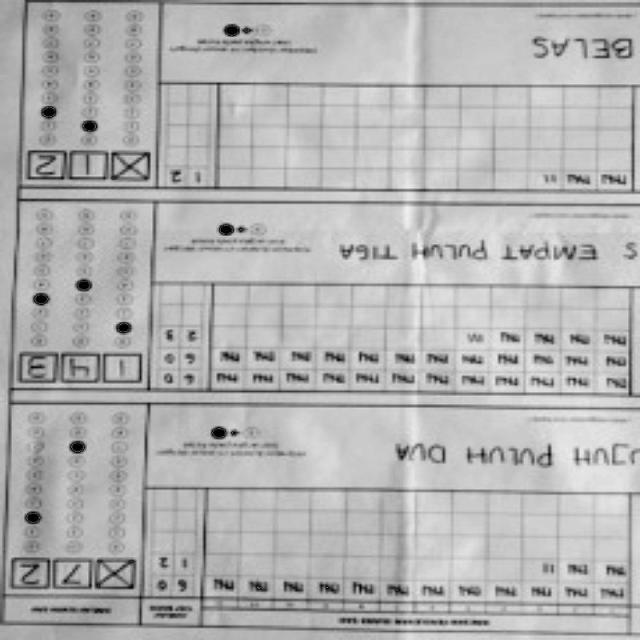Suara: (24, 143, 155, 189), (8, 551, 138, 597), (18, 345, 148, 390)
